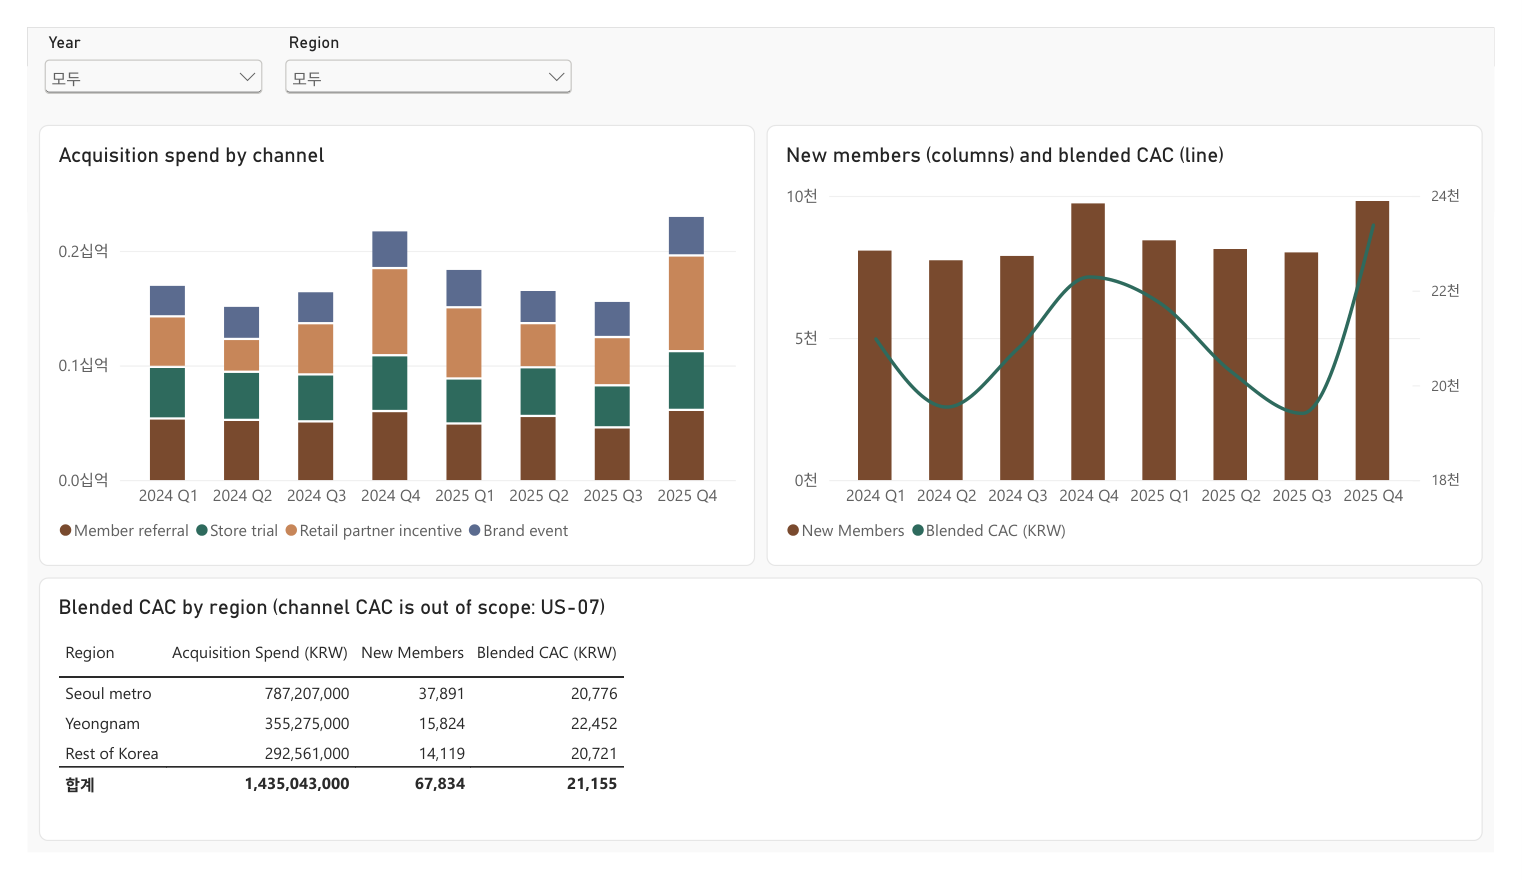

Layout of this report page (visuals, bound fields, positions):
{"tool":"powerbi","page":{"name":"2 Acquisition","canvas":[1280,720],"ordinal":1},"visuals":[{"type":"slicer","fields":{"Values":["Dim Week.iso_year"]},"box":[10,5,200,75],"z":0},{"type":"slicer","fields":{"Values":["Dim Region.region_name"]},"box":[220,5,260,75],"z":1000},{"type":"columnChart","title":"Acquisition spend by channel","fields":{"Category":["Dim Week.quarter"],"Series":["Dim Channel.channel_name"],"Y":["_Measures.Acquisition Spend (KRW)"]},"box":[10,85,625,385],"z":2000},{"type":"lineClusteredColumnComboChart","title":"New members (columns) and blended CAC (line)","fields":{"Category":["Dim Week.quarter"],"Y":["_Measures.New Members"],"Y2":["_Measures.Blended CAC (KRW)"]},"box":[645,85,625,385],"z":3000},{"type":"tableEx","title":"Blended CAC by region (channel CAC is out of scope: US-07)","fields":{"Values":["Dim Region.region_name","_Measures.Acquisition Spend (KRW)","_Measures.New Members","_Measures.Blended CAC (KRW)"]},"box":[10,480,1260,230],"z":4000}]}

Visuals, with their boxes in screenshot pixels (x1, y1, x2, y2), scaled from the page's 1280x720 canvas onto the 1522x880 screenshot:
slicer - Dim Week.iso_year: l=12, t=6, r=250, b=98
slicer - Dim Region.region_name: l=262, t=6, r=571, b=98
"Acquisition spend by channel" columnChart: l=12, t=104, r=755, b=574
"New members (columns) and blended CAC (line)" lineClusteredColumnComboChart: l=767, t=104, r=1510, b=574
"Blended CAC by region (channel CAC is out of scope: US-07)" tableEx: l=12, t=587, r=1510, b=868
